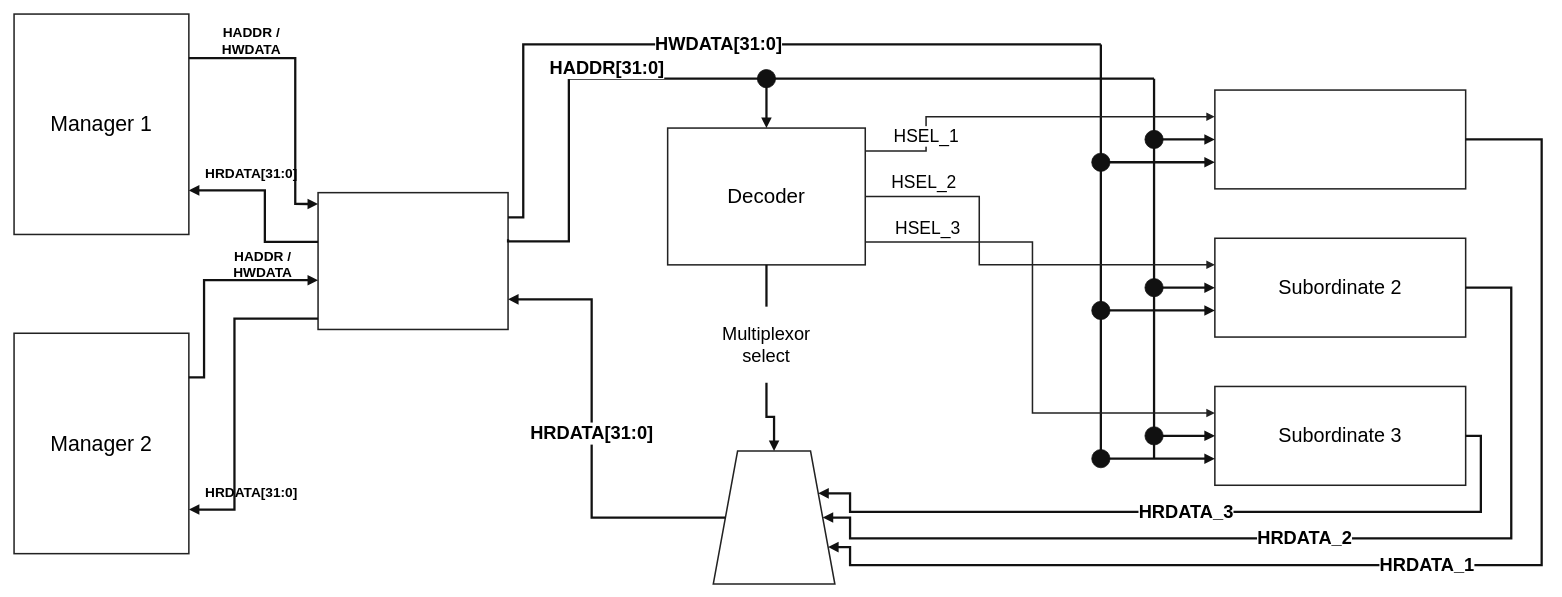
Image size: 1562x597. Some labels were removed from this diagram. The centre of each missing label's shape, as x and y in pixels:
"Arbiter / Manager selector" goes at [412,261].
"Subordinate 1" goes at [1340,139].
